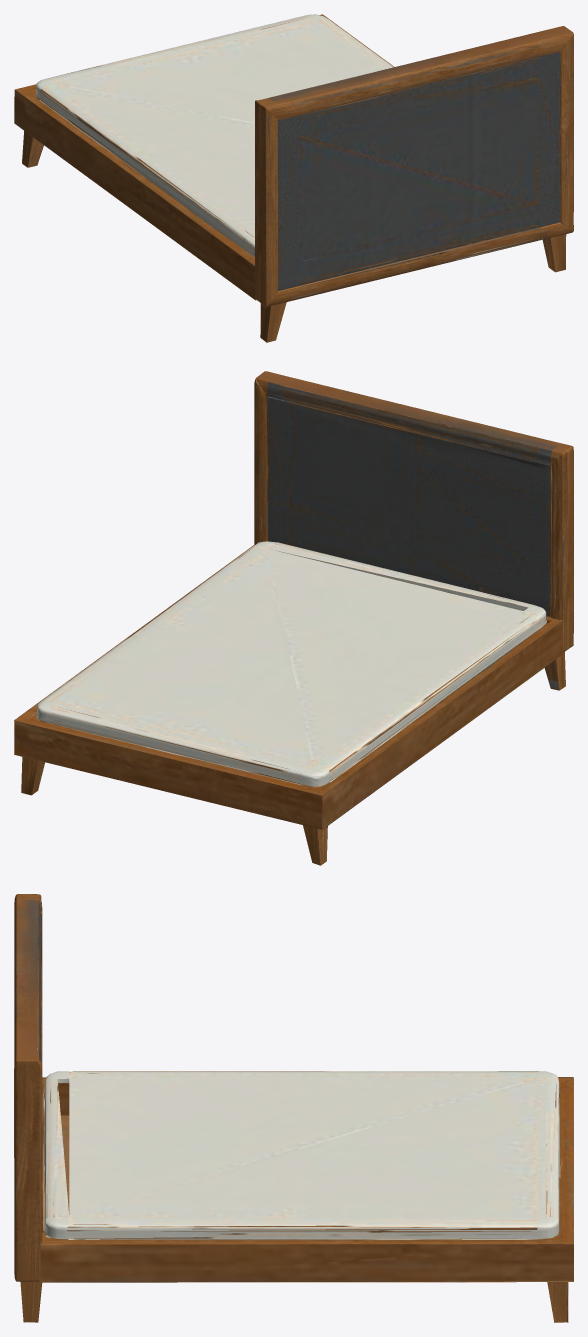
File: mall-bed-display.glb
3 renders of one model, top to bottom at view 1: azimuth 30°, elevation 25°; view 2: azimuth 150°, elevation 25°; view 3: azimuth 270°, elevation 25°, orthographic. The views are drawn at different scales.
Visible parts, largest first — view 1: bed-display; view 2: bed-display; view 3: bed-display.
Boxes of the visible parts, <box> form: bed-display: <box>14,14,573,342</box>; bed-display: <box>14,371,573,865</box>; bed-display: <box>14,894,573,1322</box>.
Bounding box in the file's own units: 1.49 × 1.1 × 2.1.
Materials: 1 (1 with a texture image).
